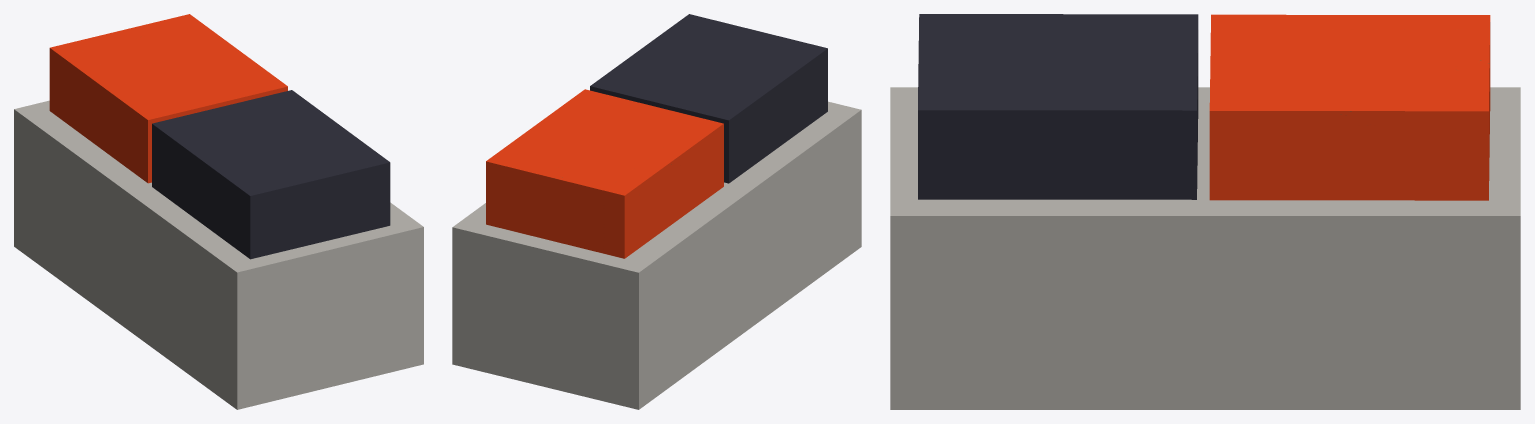
Rendered from Button.fbx.
3 renders of one model, left to right at view 1: azimuth 30°, elevation 25°; view 2: azimuth 150°, elevation 25°; view 3: azimuth 270°, elevation 25°, orthographic. The views are drawn at different scales.
Parts seen in each view (by area): view 1: Button, GreenButton, RedButton; view 2: Button, RedButton, GreenButton; view 3: Button, RedButton, GreenButton.
Boxes of the visible parts, x1=… form: Button: x1=14, y1=100, x2=423, y2=409; GreenButton: x1=152, y1=90, x2=390, y2=259; RedButton: x1=49, y1=14, x2=287, y2=183; Button: x1=452, y1=101, x2=861, y2=409; RedButton: x1=486, y1=89, x2=723, y2=258; GreenButton: x1=590, y1=14, x2=827, y2=183; Button: x1=890, y1=87, x2=1520, y2=409; RedButton: x1=1209, y1=14, x2=1490, y2=200; GreenButton: x1=918, y1=14, x2=1198, y2=199.
Bounding box in the file's own units: 0.1593 × 0.1636 × 0.3296.
